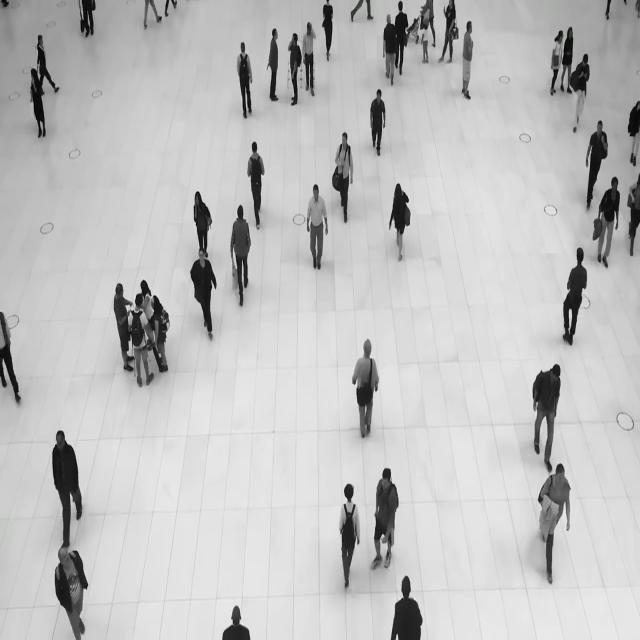Persona: (535, 457, 574, 595), (48, 424, 86, 552), (528, 358, 567, 472), (368, 459, 405, 579), (50, 540, 92, 640), (347, 327, 382, 442), (594, 172, 624, 284), (561, 243, 590, 355), (188, 246, 222, 338), (227, 198, 254, 313), (386, 175, 417, 268), (336, 472, 360, 592), (304, 174, 331, 278), (331, 126, 356, 232), (388, 570, 425, 640), (580, 114, 609, 200), (245, 133, 269, 235), (111, 274, 132, 380), (151, 294, 177, 377), (131, 293, 151, 396), (234, 35, 258, 119), (570, 42, 592, 131), (186, 186, 217, 248), (34, 30, 61, 100), (26, 65, 50, 141), (460, 17, 479, 106), (265, 23, 283, 112), (286, 27, 304, 116), (368, 84, 388, 160), (380, 10, 398, 90), (319, 0, 339, 68), (302, 16, 318, 99), (549, 22, 565, 104), (440, 0, 459, 69), (396, 0, 407, 80), (565, 18, 575, 96), (420, 18, 431, 68)
